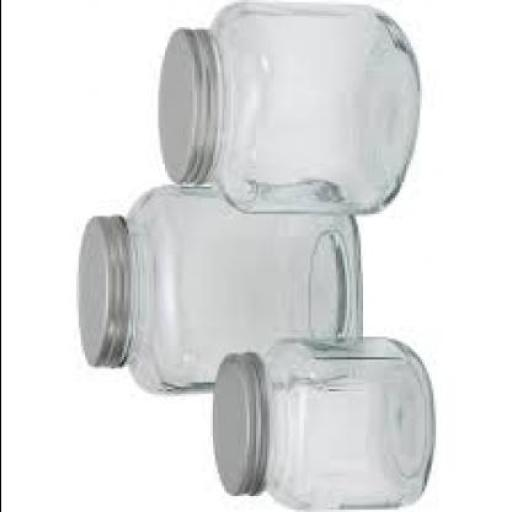glass: (123, 177, 359, 394), (205, 0, 417, 212), (257, 334, 430, 510)
metal: (155, 24, 214, 180), (210, 350, 264, 494), (76, 214, 127, 366)
